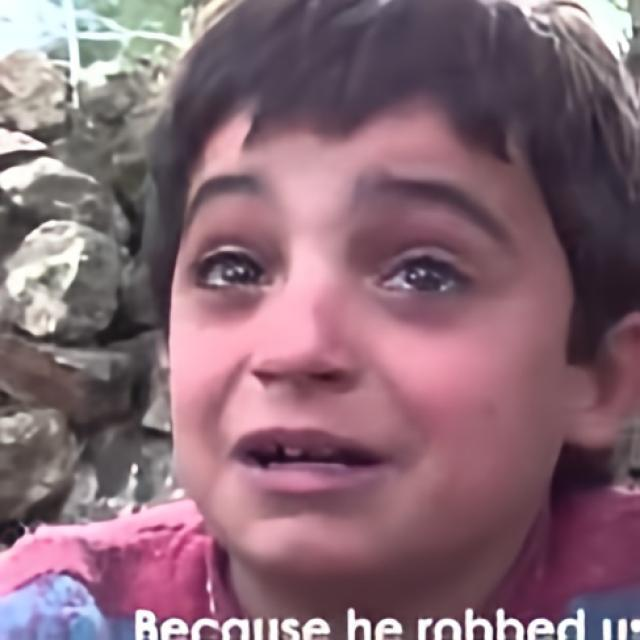sad: (170, 85, 564, 585)
